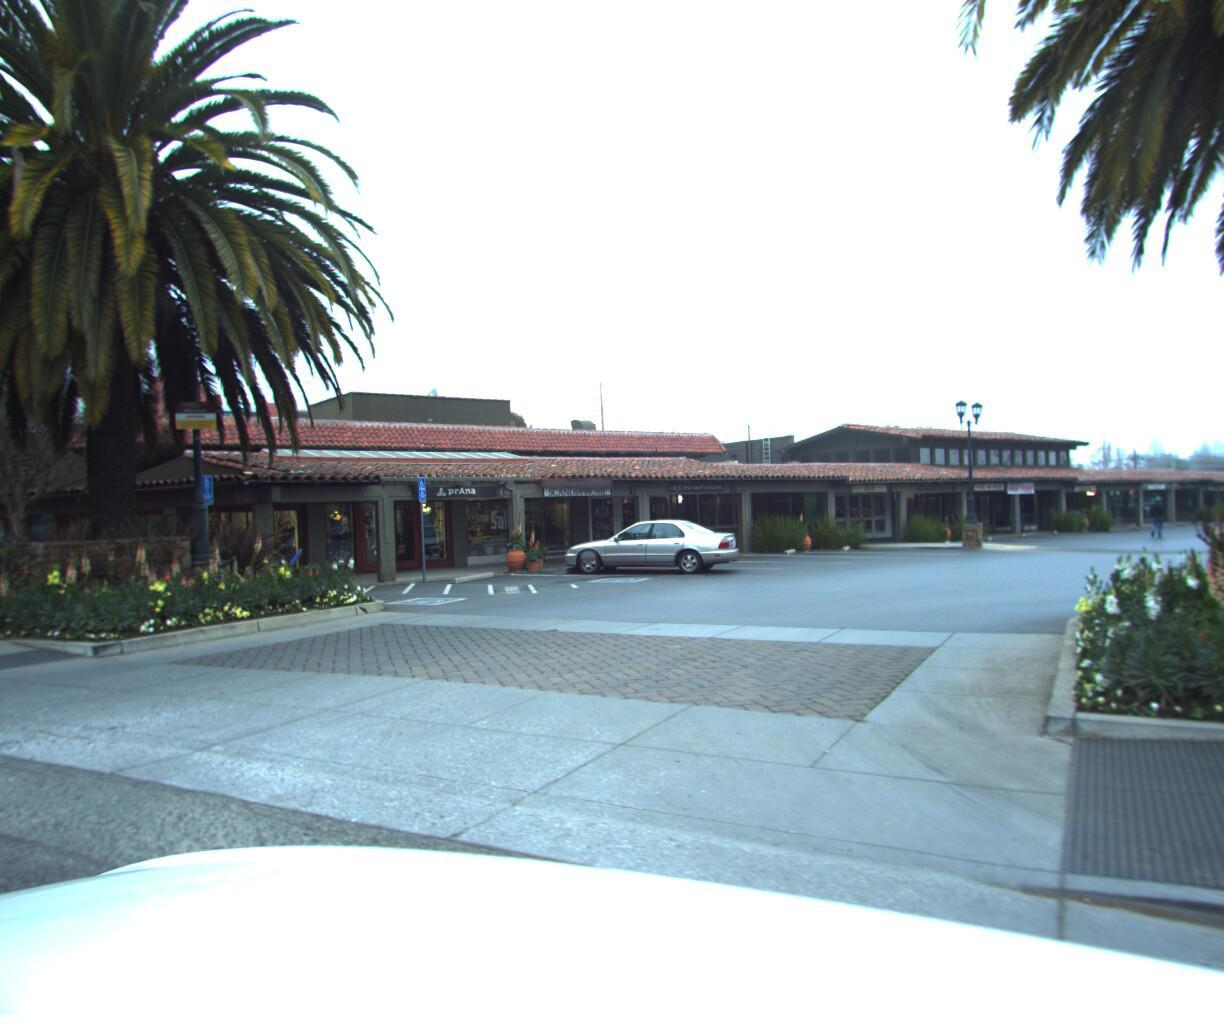car: (549, 510, 745, 574)
